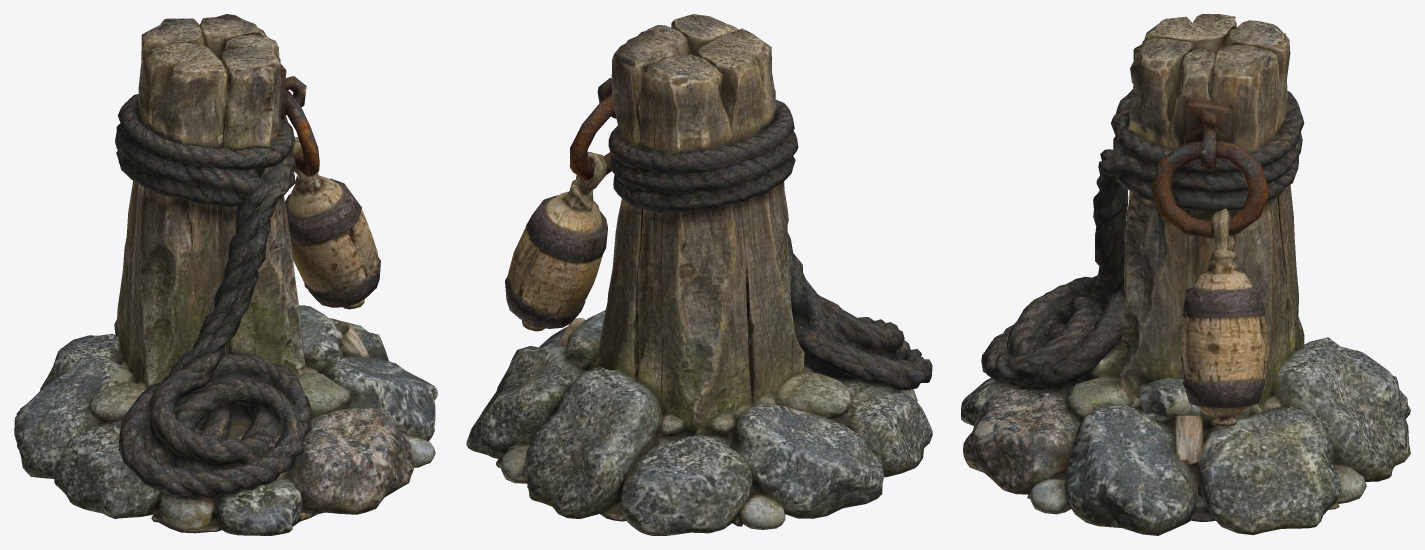
Rendered from kit_sf_mooring_post.glb.
3 renders of one model, left to right at view 1: azimuth 30°, elevation 25°; view 2: azimuth 150°, elevation 25°; view 3: azimuth 270°, elevation 25°, orthographic. The views are drawn at different scales.
Parts seen in each view (by area): view 1: kit_sf_mooring_post; view 2: kit_sf_mooring_post; view 3: kit_sf_mooring_post.
Part boxes in pixels (x1,y1,x2,y2): kit_sf_mooring_post: [14, 14, 437, 535]; kit_sf_mooring_post: [466, 14, 932, 535]; kit_sf_mooring_post: [961, 14, 1410, 535].
Bounding box in the file's own units: 1.29 × 1.3 × 1.31.
1 material, 1 textured.
